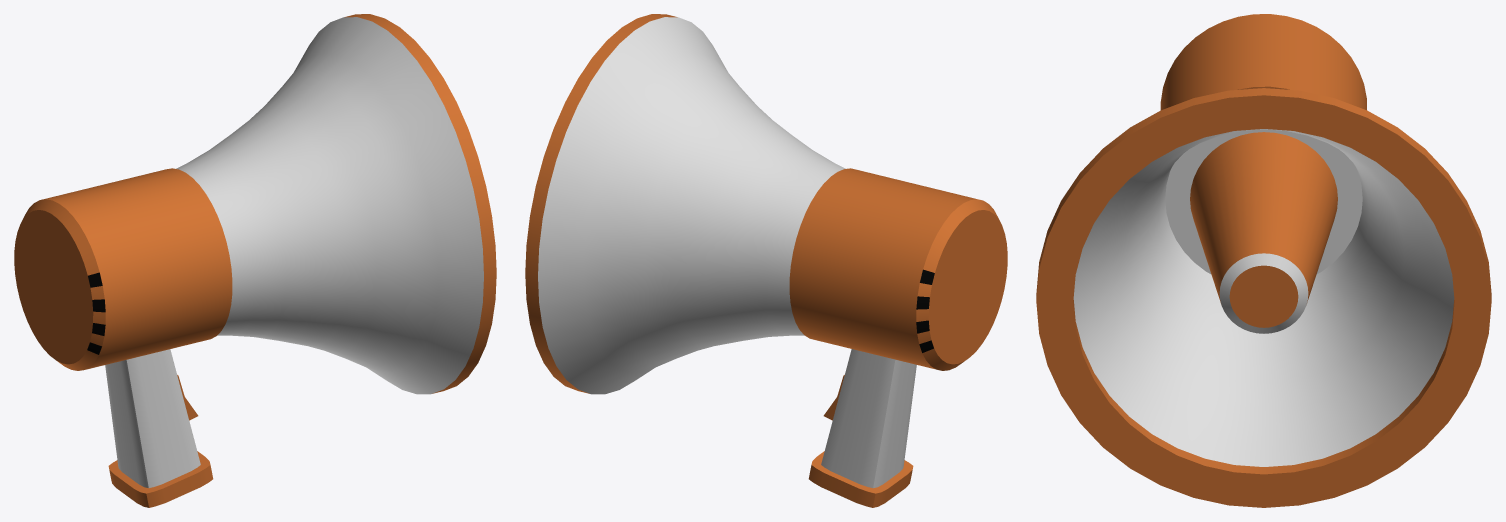
File: SOUND.fbx
3 renders of one model, left to right at view 1: azimuth 30°, elevation 25°; view 2: azimuth 150°, elevation 25°; view 3: azimuth 270°, elevation 25°, orthographic. The views are drawn at different scales.
Parts seen in each view (by area): view 1: SOUND; view 2: SOUND; view 3: SOUND.
Boxes of the visible parts, x1=… form: SOUND: x1=14, y1=14, x2=496, y2=507; SOUND: x1=525, y1=14, x2=1007, y2=507; SOUND: x1=1036, y1=14, x2=1491, y2=507.
Bounding box in the file's own units: 8.68 × 9.62 × 8.4.
